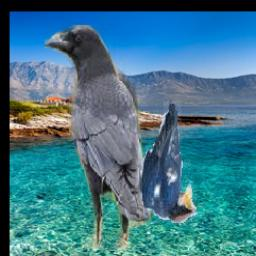Crow: (45, 25, 153, 249)
Swallow: (141, 101, 198, 223)
